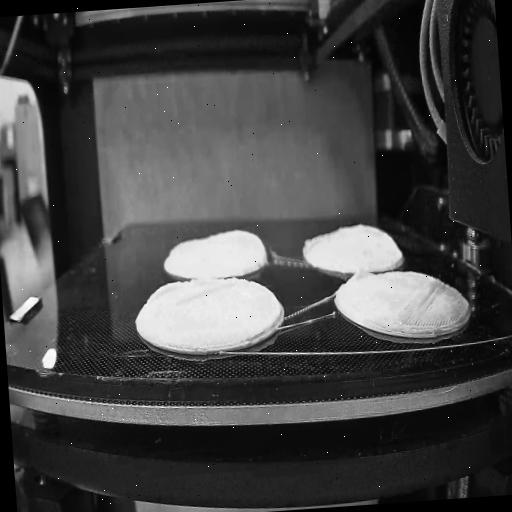over_extrusion: (146, 276, 236, 308), (250, 276, 282, 318), (332, 220, 395, 238), (434, 286, 455, 319), (301, 232, 330, 252), (352, 262, 374, 282)
